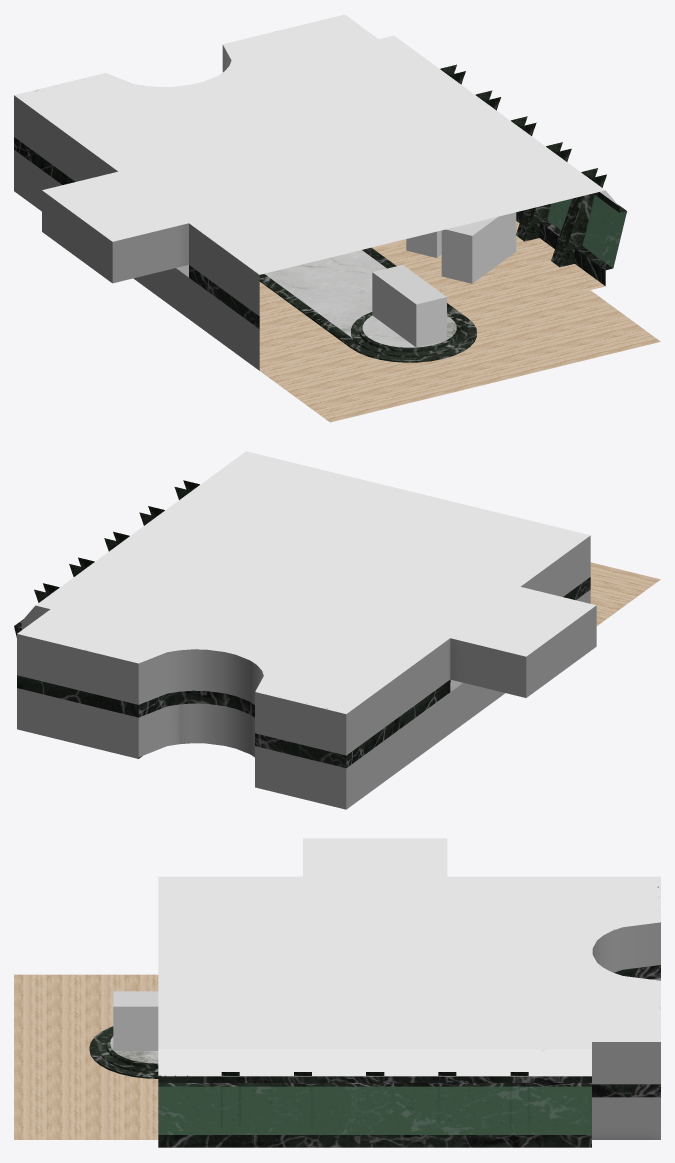
Rendered from dealership.glb.
3 renders of one model, top to bottom at view 1: azimuth 30°, elevation 25°; view 2: azimuth 150°, elevation 25°; view 3: azimuth 270°, elevation 25°, orthographic. The views are drawn at different scales.
Parts seen in each view (by area): view 1: Floor, Bounds, Bounds.001, WindowSeparators, Podium, Bounds.002; view 2: Floor, WindowSeparators; view 3: Floor, Bounds, Podium.
Part boxes in pixels (box(x1,y1,x2,y2)): Floor: box(14, 14, 660, 422); Bounds: box(372, 265, 446, 347); Bounds.001: box(441, 212, 516, 283); WindowSeparators: box(440, 64, 606, 267); Podium: box(351, 312, 468, 357); Bounds.002: box(406, 230, 441, 257); Floor: box(14, 451, 660, 809); WindowSeparators: box(34, 480, 199, 602); Floor: box(14, 838, 660, 1147); Bounds: box(113, 991, 158, 1050); Podium: box(98, 1030, 158, 1073).
Size of the model in its own units: 29.77 by 6 by 35.83.
9 materials, 9 textured.
